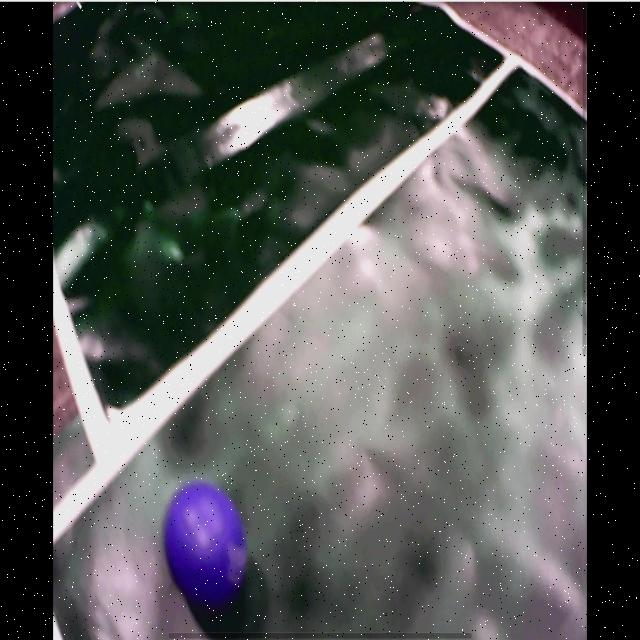ball: (165, 483, 248, 607)
